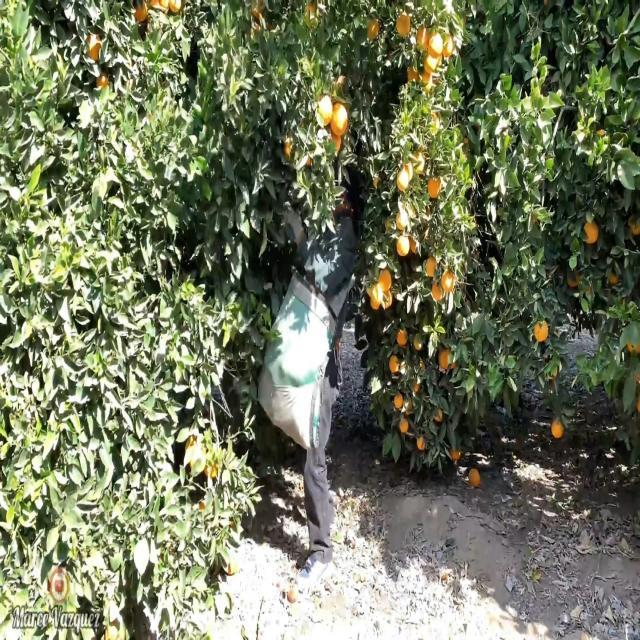Jeruk Sudah Matang: (329, 96, 351, 144), (312, 94, 336, 125), (424, 30, 446, 63), (532, 314, 550, 350), (374, 262, 394, 294), (582, 215, 599, 249), (393, 233, 413, 257), (441, 346, 456, 374), (395, 202, 407, 234), (444, 268, 456, 300), (552, 420, 567, 442), (392, 328, 410, 346), (412, 332, 426, 353), (388, 354, 399, 380)
